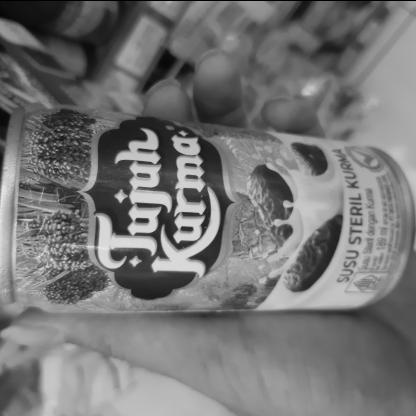alumunium_can: (1, 98, 411, 316)
